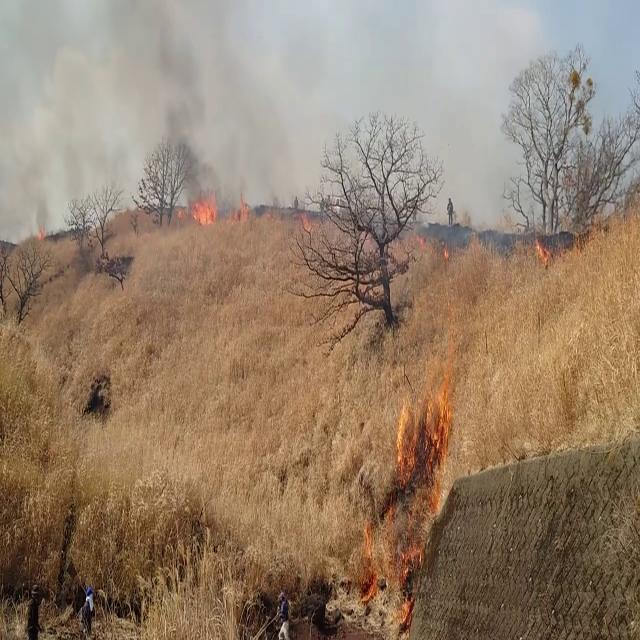Fire: (188, 185, 220, 229)
Smoke: (118, 1, 258, 213)
